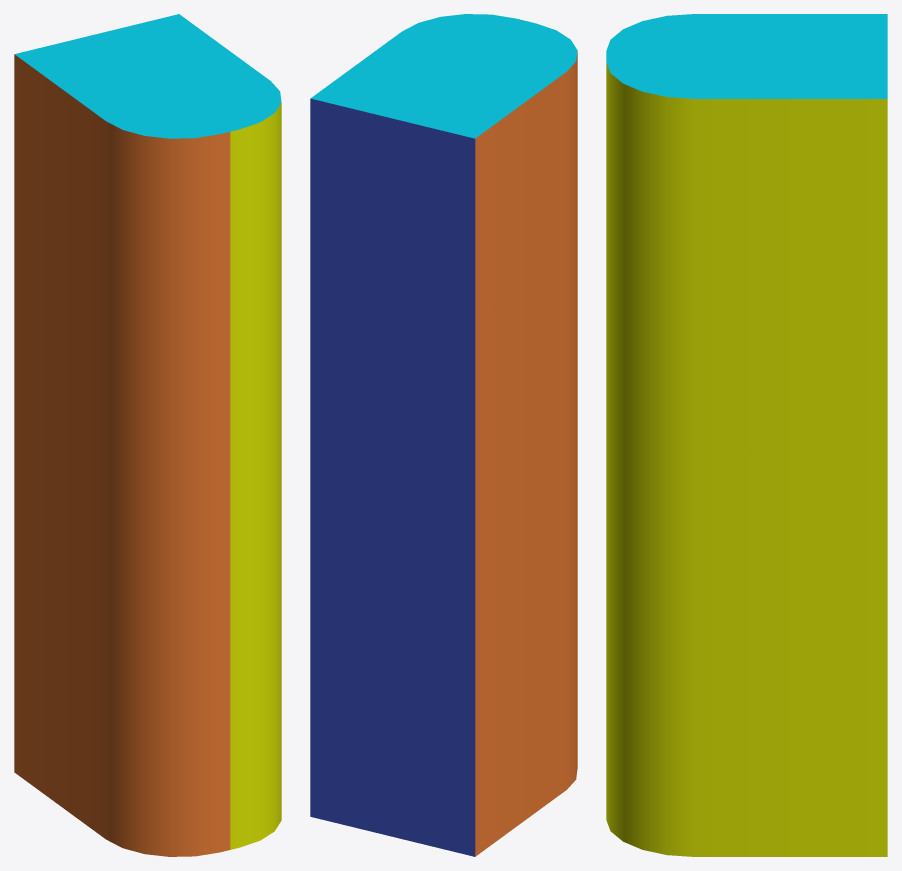
File: wall_modules_cap.fbx
The picture shows the model from 3 angles, left to right: view 1: azimuth 30°, elevation 25°; view 2: azimuth 150°, elevation 25°; view 3: azimuth 270°, elevation 25°; orthographic projection. The views are drawn at different scales.
Parts seen in each view (by area): view 1: Cube.003; view 2: Cube.003; view 3: Cube.003.
Part boxes in pixels (<box>): Cube.003: <box>14,14,281,856</box>; Cube.003: <box>310,14,577,856</box>; Cube.003: <box>606,14,887,856</box>.
Bounding box in the file's own units: 200 × 833 × 280.
